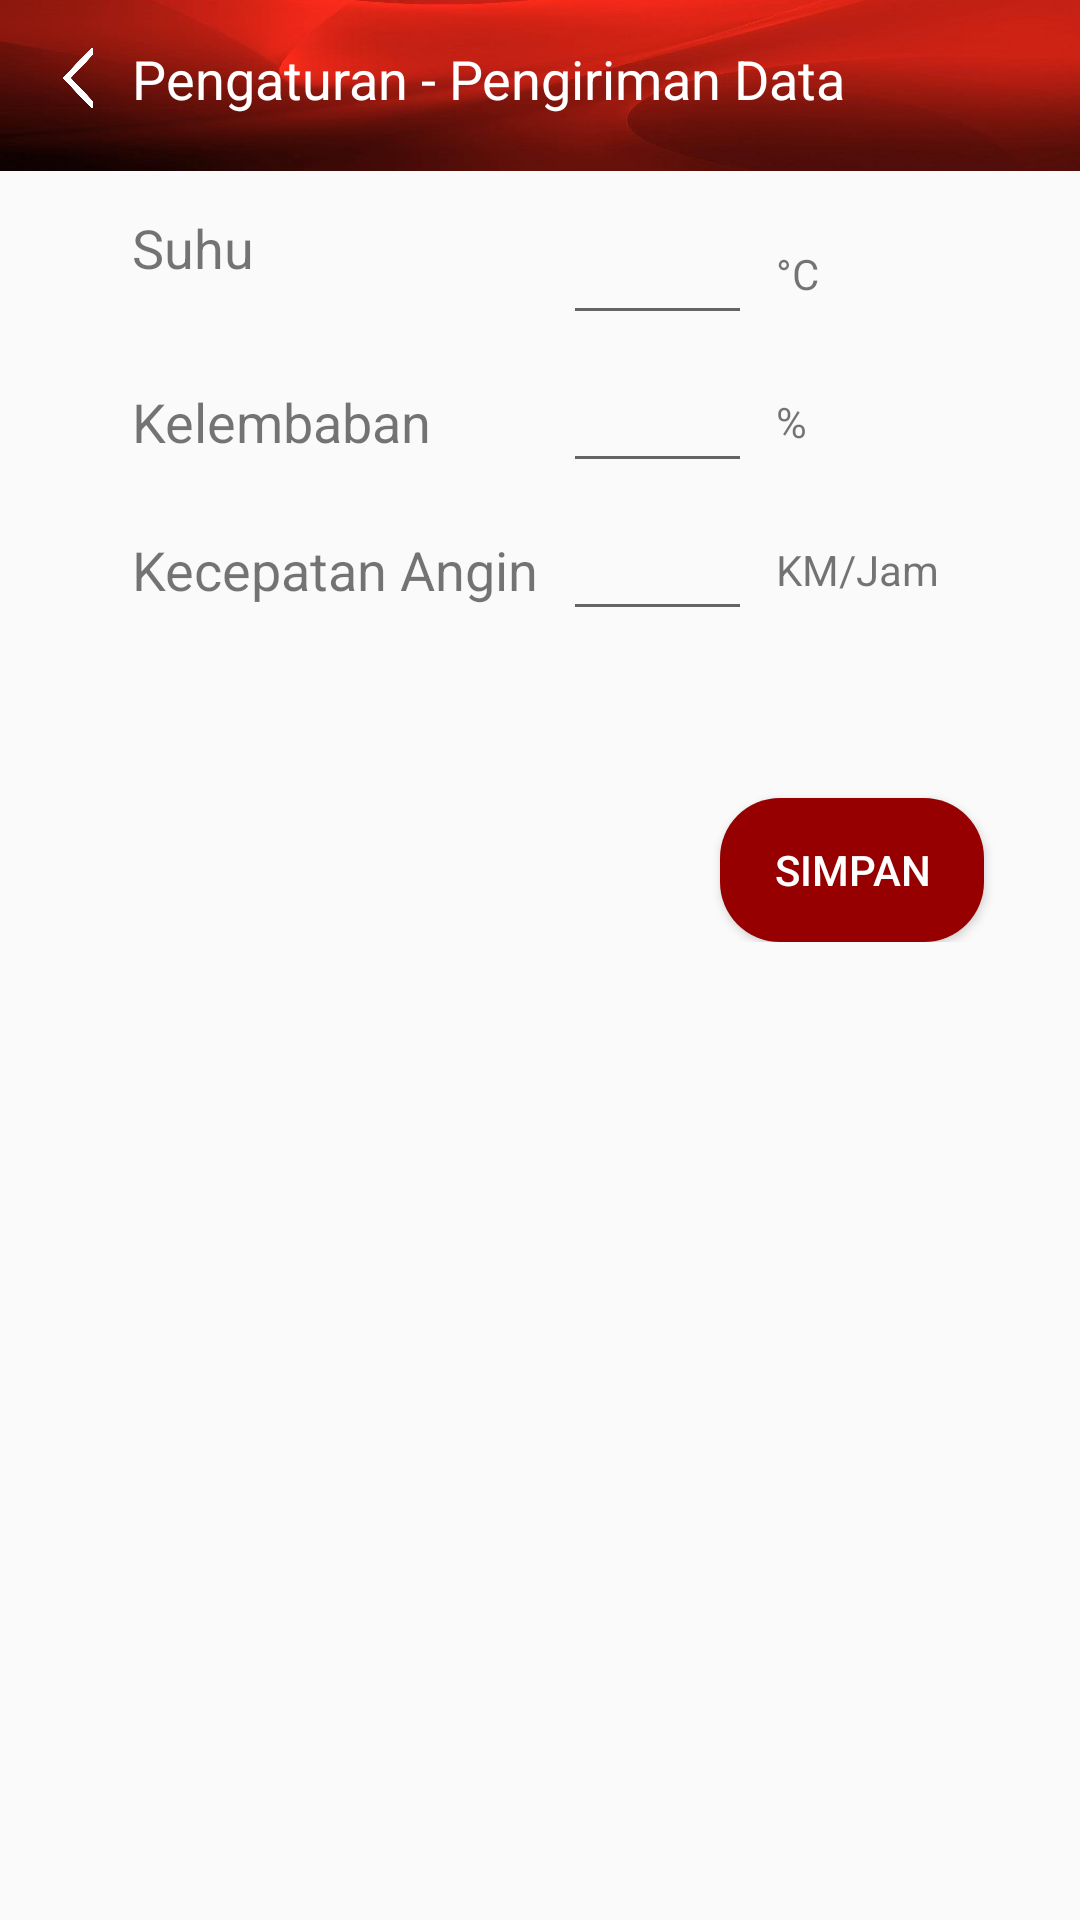

Screen size 1080px×1920px. Icon name, then its center in pixels as [x,y]:
previous: [78,78]
